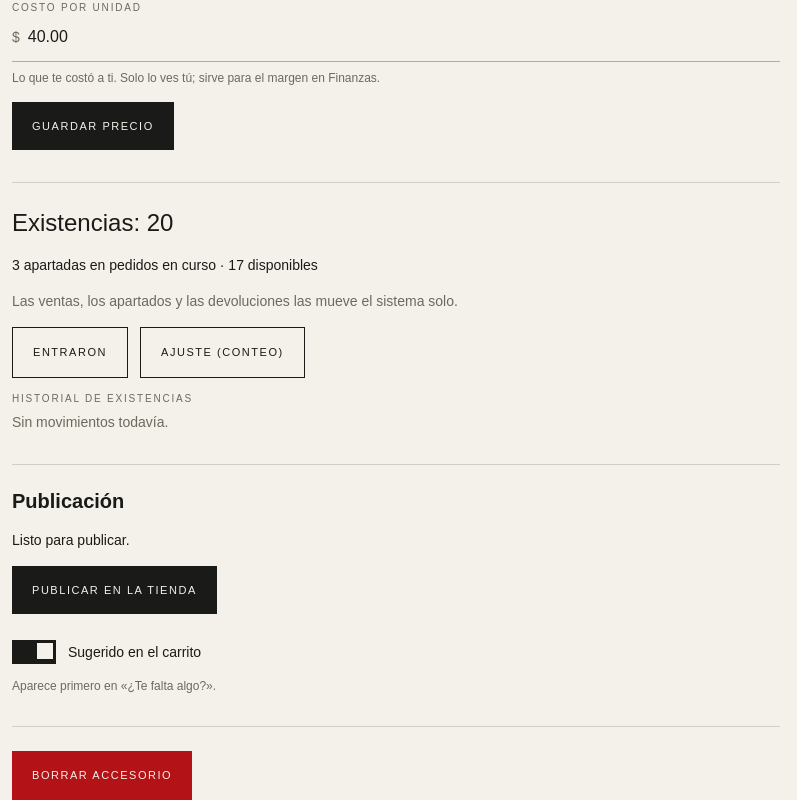
Test: v1.86.3 (§AC.19.2) · el panel usa la fila devuelta (200 AdminAccessoryDTO), ⛔ sin releer la ficha › activar: pinta lo devuelto y no vuelve a pedir GET /admin/accessories/:id
The width and height of the screenshot is (797, 800).
(page scrolled)
Click the button "Publicar en la tienda" at (114, 590), box [12,566,217,614]
(page scrolled)
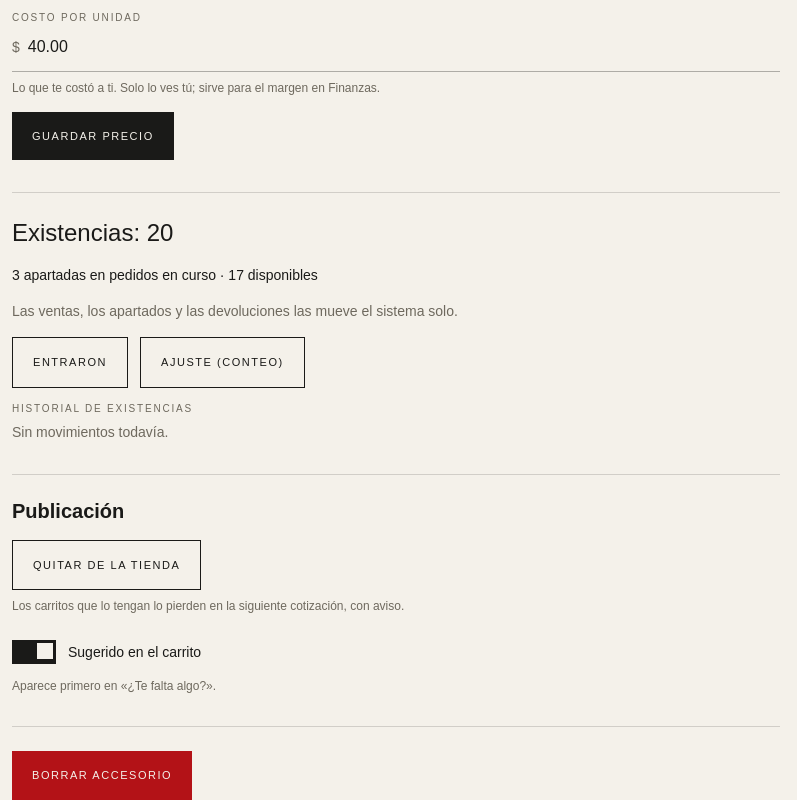
Result: the button "Quitar de la tienda" is shown at [12,540,201,590]
